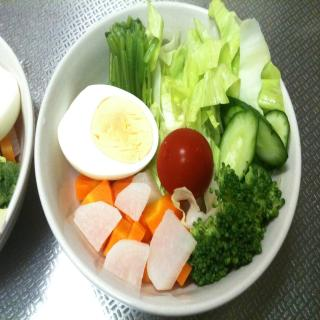tomato: (155, 126, 215, 201)
